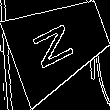N_NE: (33, 16, 85, 72)
